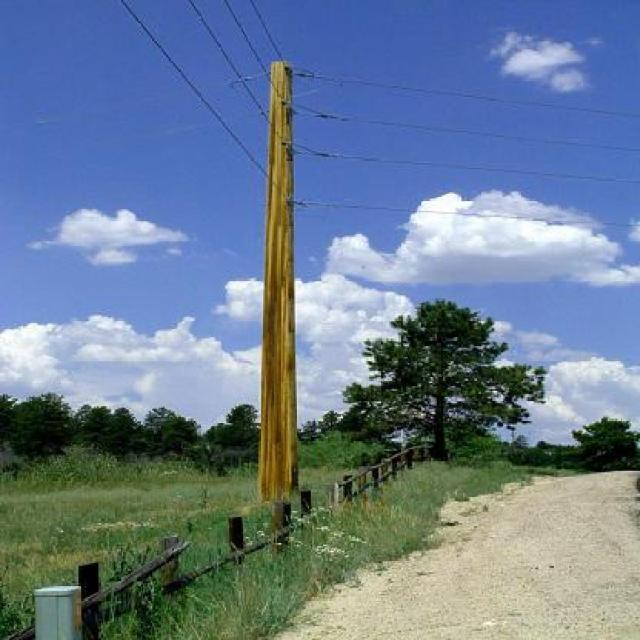light_pole: (257, 51, 322, 526)
